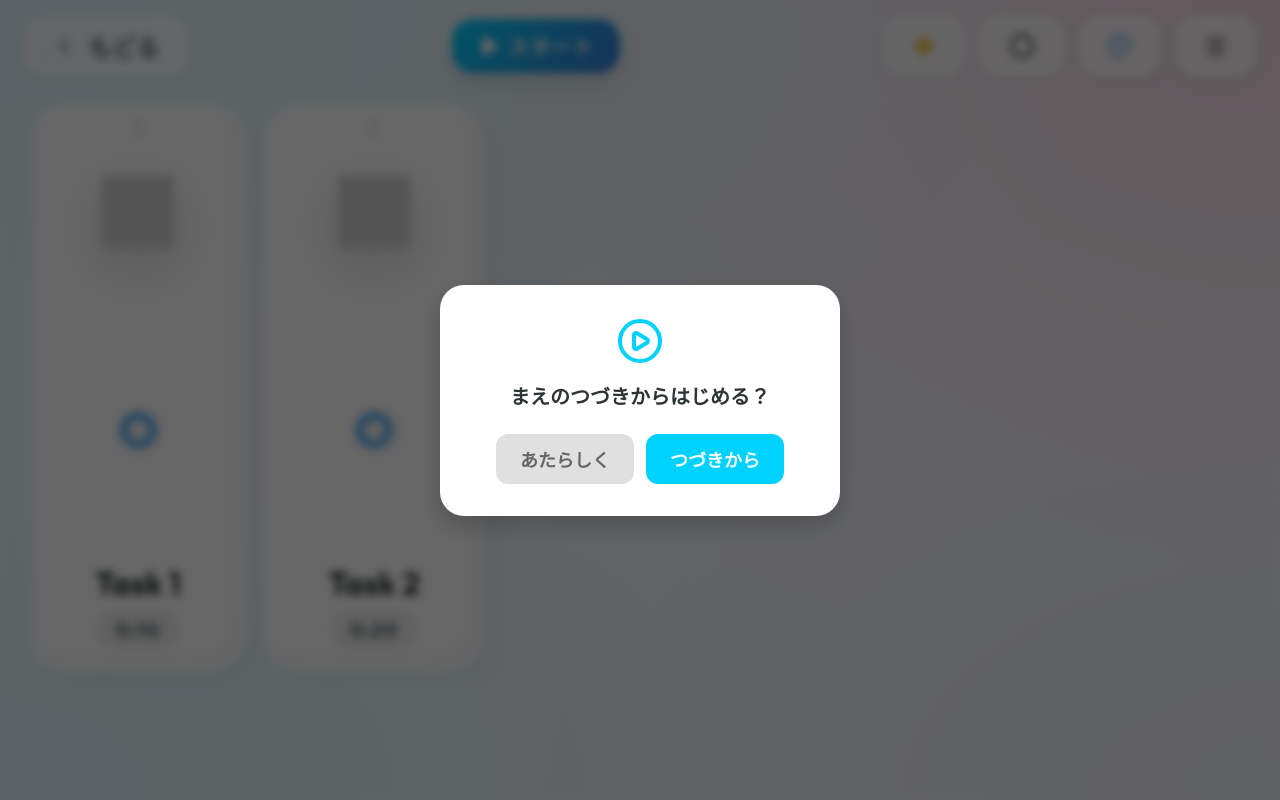
it: MainTimerView Integration › should clear previous session when resume modal cancel is clicked
expect the text "まえのつづきからはじめる？" is shown: met, box [510,384,770,408]
Click the button "あたらしく" at coordinates (565, 458), box [496,434,634,484]
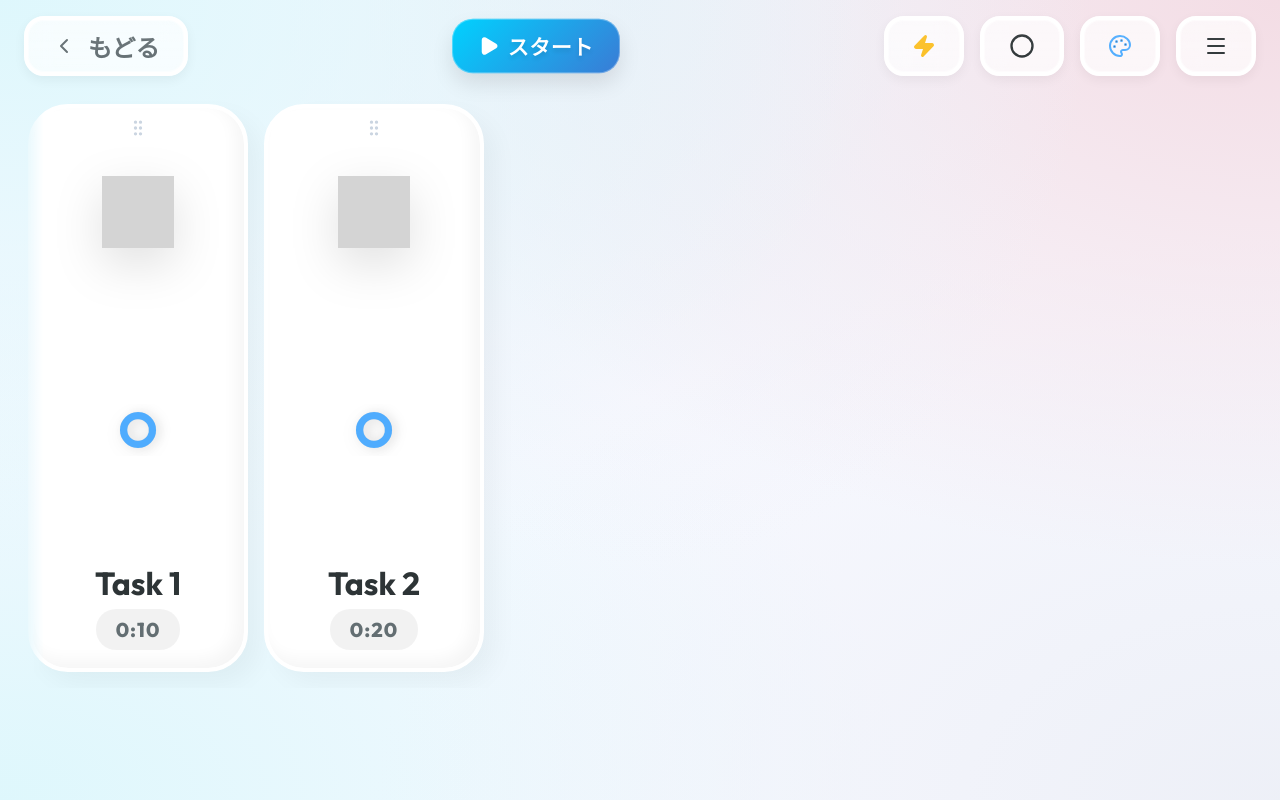
expect the text "まえのつづきからはじめる？" is gone: met
